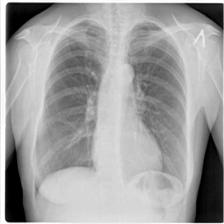tuberculosis: (31, 15, 198, 205)
